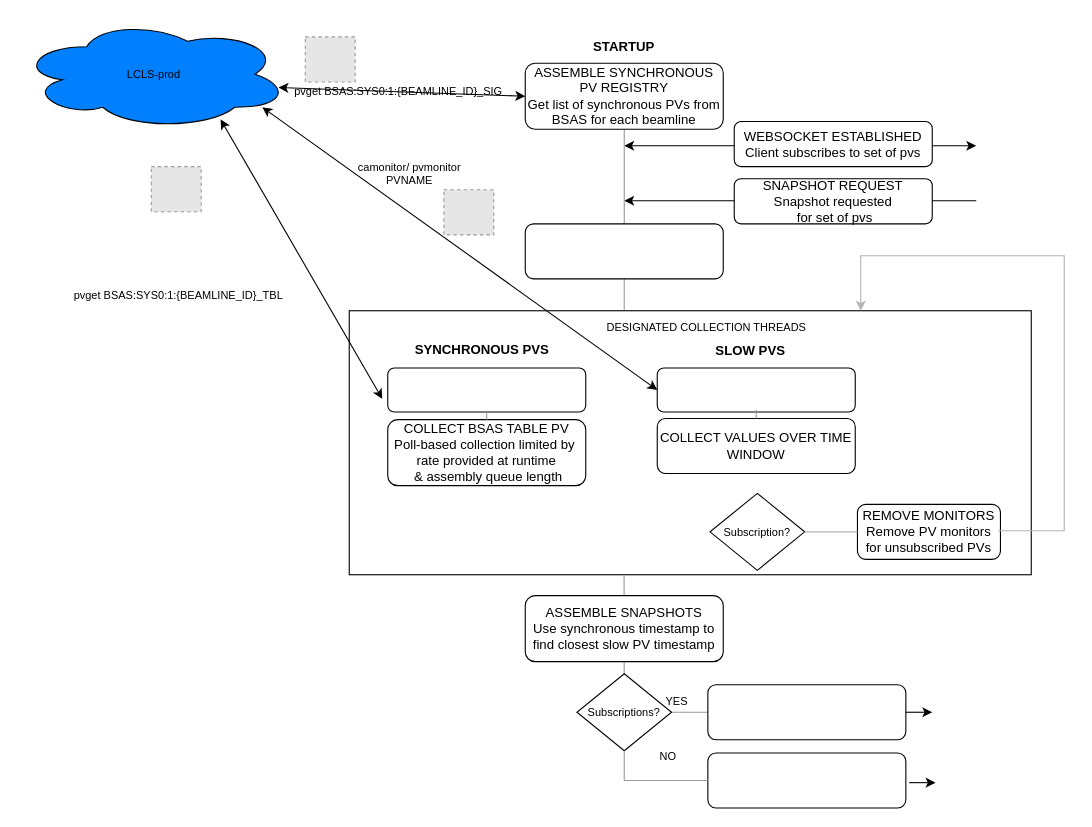
Some shapes in this 1092 by 827 pixel diagram are drawn without their labels. Grey dashed boxes stand in for pictures. Each missing label, with the centre of its shape:
"CHECK BSAS PV STATUS" goes at (486,389).
"CHECK MEMBERSHIP IN BEAMLINE SYNCHRONOUS REGISTRY" goes at (623,251).
"CREATE MONITORS" goes at (755,389).
"RESPONSE W/ ASSEMBLED SNAPSHOT" goes at (806,780).
"WEBSOCKET EVENT W/ ASSEMBLED SNAPSHOT" goes at (806,712).
